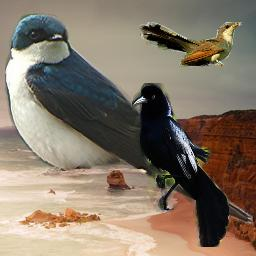Crow: (132, 83, 229, 247)
Cuckoo: (140, 22, 242, 67)
Swallow: (5, 13, 253, 225)
